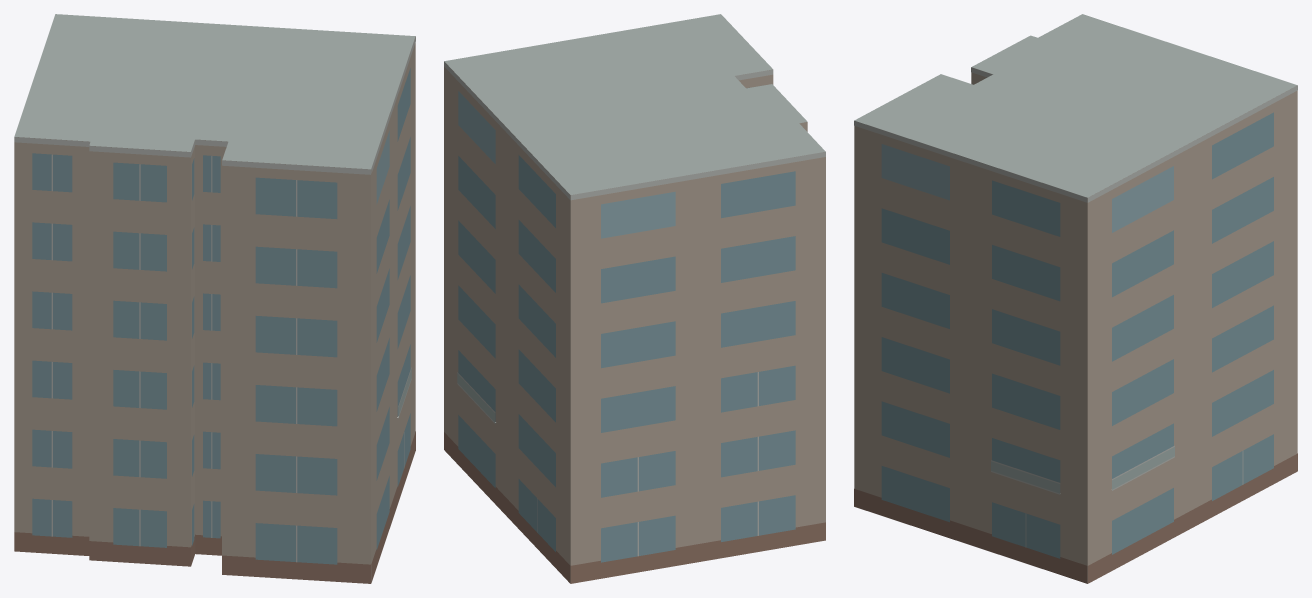
Rendered from survey-upis-33010325.glb.
The picture shows the model from 3 angles, left to right: view 1: azimuth 30°, elevation 25°; view 2: azimuth 150°, elevation 25°; view 3: azimuth 270°, elevation 25°; orthographic projection. The views are drawn at different scales.
Visible parts, largest first — view 1: survey-upis-33010325.tmp; view 2: survey-upis-33010325.tmp; view 3: survey-upis-33010325.tmp.
Part boxes in pixels (x1,y1,x2,y2): survey-upis-33010325.tmp: (14, 14, 415, 583); survey-upis-33010325.tmp: (444, 14, 825, 583); survey-upis-33010325.tmp: (854, 14, 1297, 583).
Bounding box in the file's own units: 18.68 × 18.3 × 19.06.
